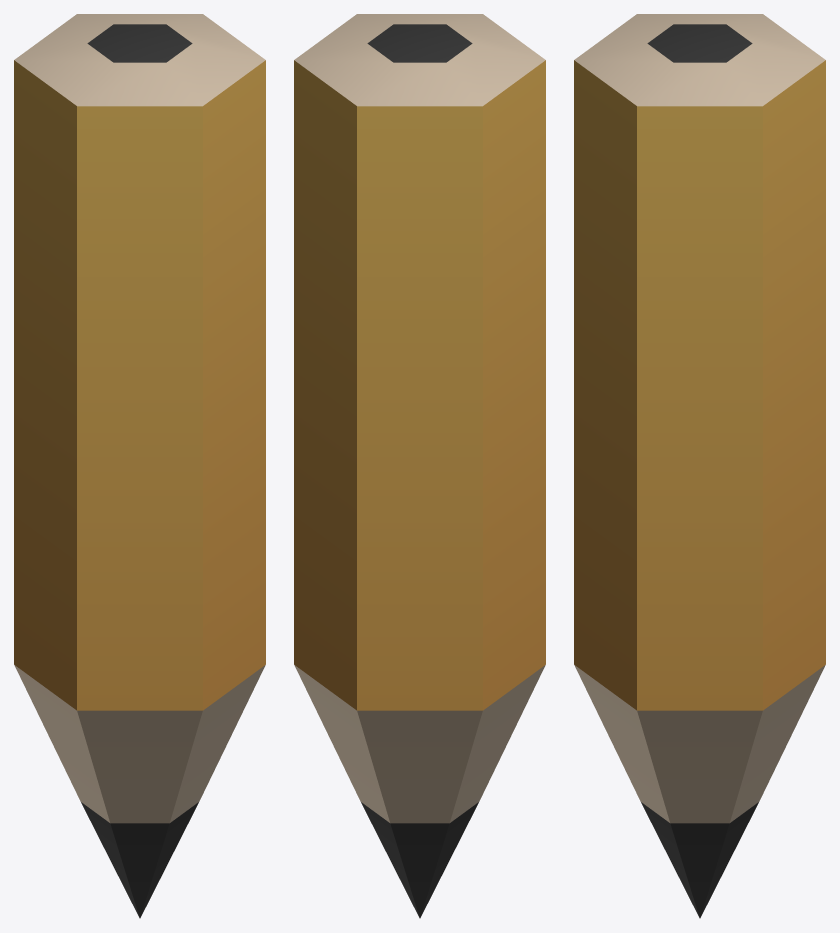
File: pencil_A_short.glb
3 views of the same model, side by side, from view 1: azimuth 30°, elevation 25°; view 2: azimuth 150°, elevation 25°; view 3: azimuth 270°, elevation 25° (orthographic).
Visible parts, largest first — view 1: pencil_A_short; view 2: pencil_A_short; view 3: pencil_A_short.
Part boxes in pixels (x1,y1,x2,y2): pencil_A_short: (14, 14, 265, 918); pencil_A_short: (294, 14, 545, 918); pencil_A_short: (574, 14, 825, 918).
Bounding box in the file's own units: 0.0861 × 0.3812 × 0.0994.
Materials: 1 (1 with a texture image).
